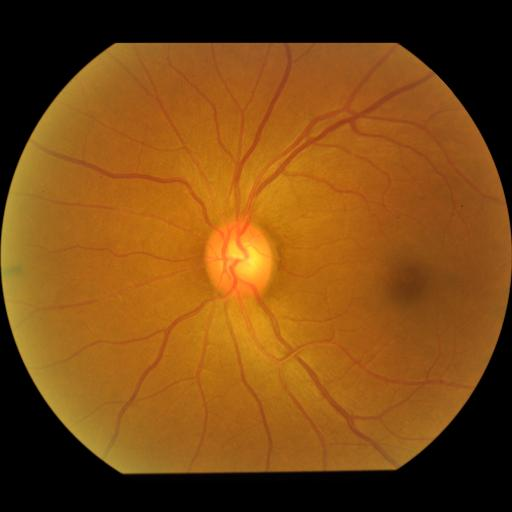Optic Cup: (223, 238, 262, 278)
Optic Disc: (204, 217, 274, 298)
